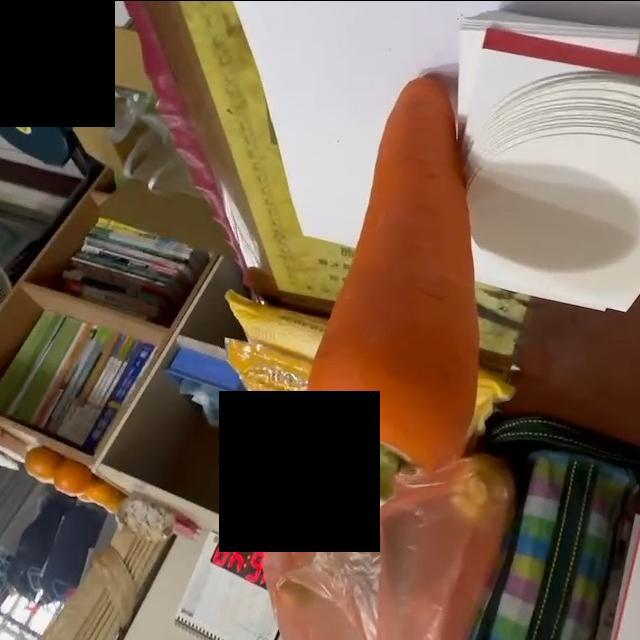carrot: (305, 74, 484, 515)
